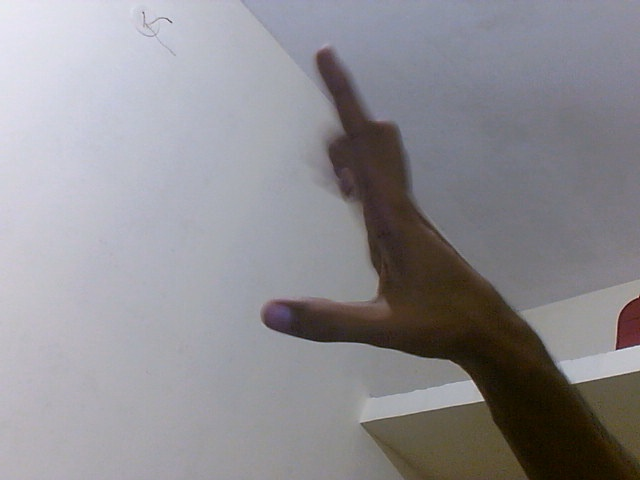hand: (254, 41, 538, 367)
